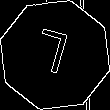L_S: (33, 26, 77, 84)
